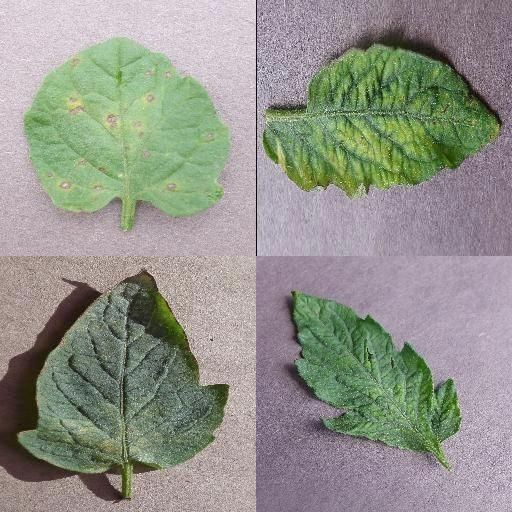Mosaic Virus: (261, 41, 501, 199), (291, 289, 464, 453)
Septoria: (24, 35, 230, 217)
Spider Mites: (19, 268, 231, 474)
